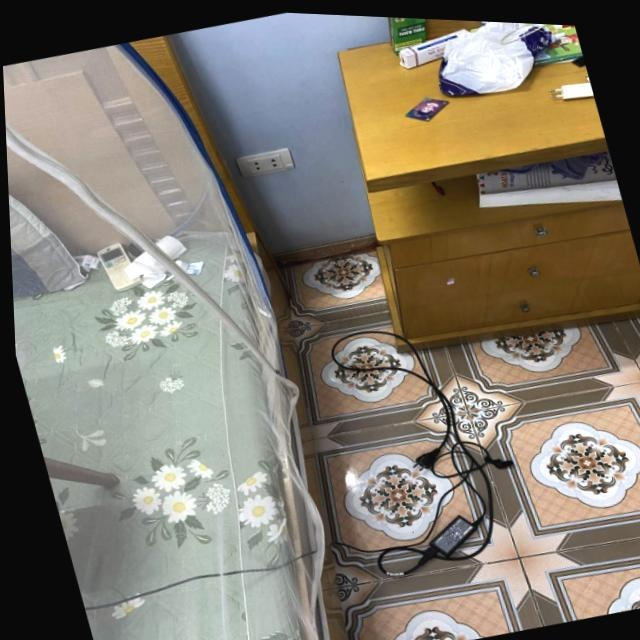outlet: (233, 144, 295, 181)
